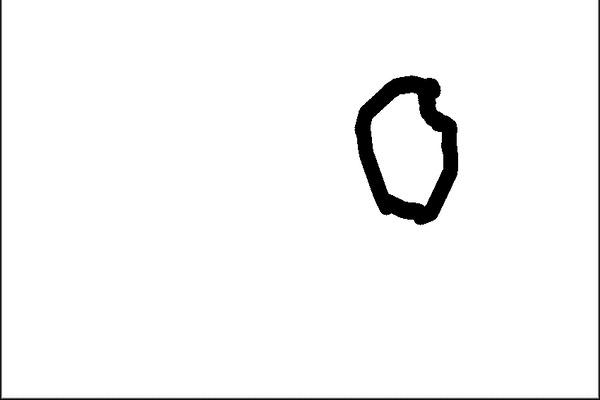O: (332, 62, 472, 230)
